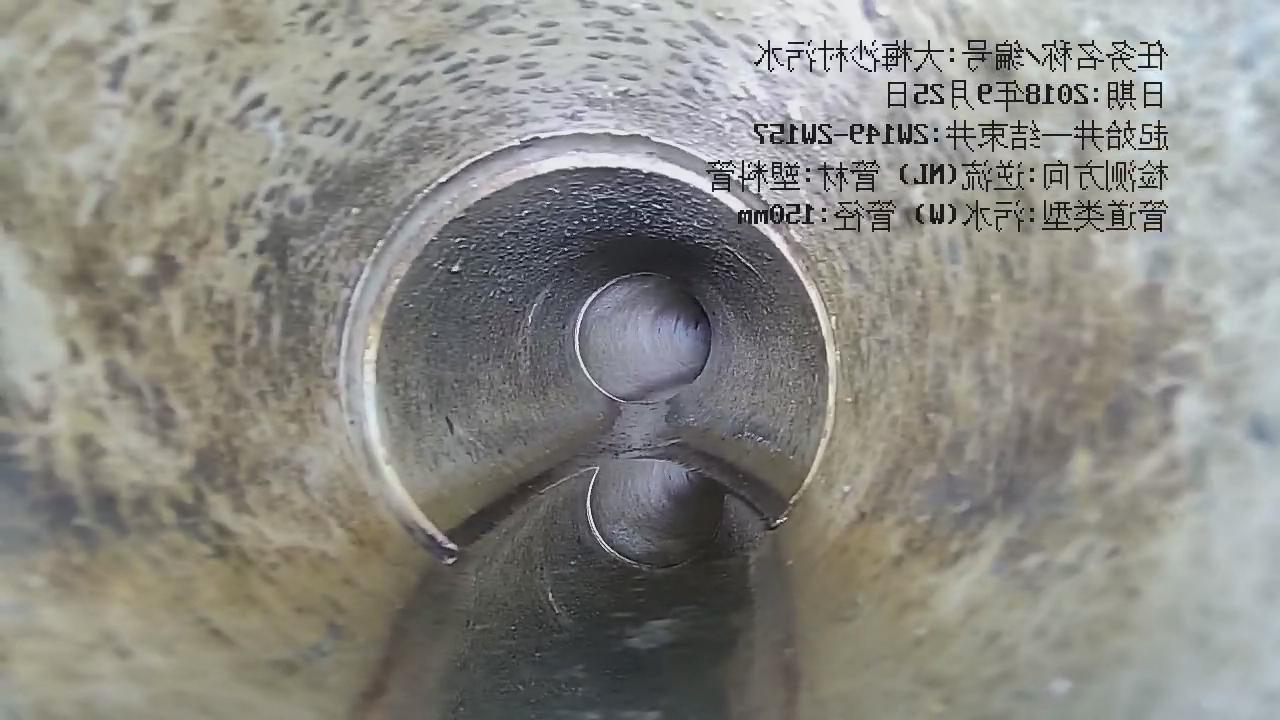CKTJ: (336, 126, 850, 565), (570, 269, 684, 408)
